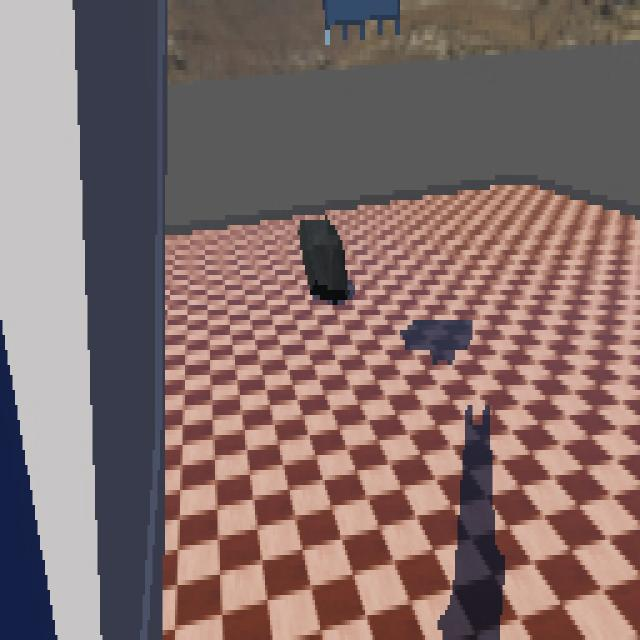rock: (298, 217, 351, 304)
